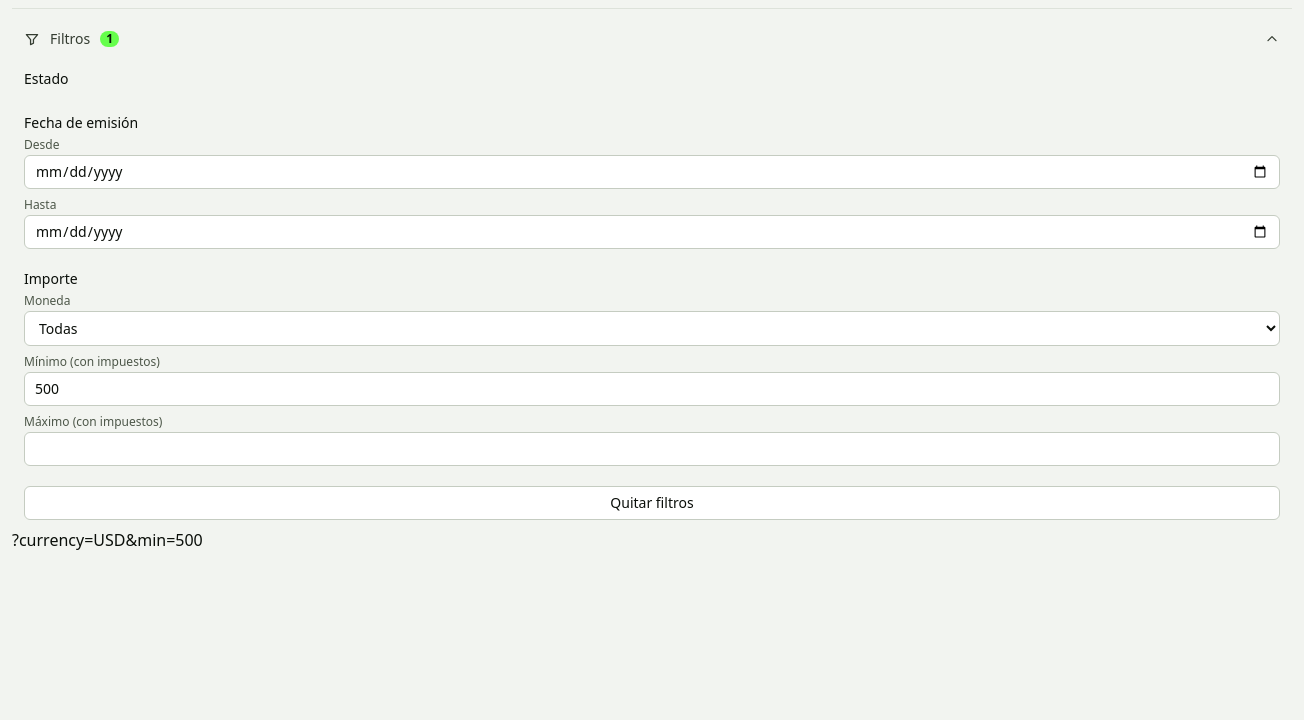
Scenario: InvoiceFilterPanel › rechaza un máximo menor que el mínimo
The width and height of the screenshot is (1304, 720).
Type "100" into the number field labelled "Máximo (con impuestos)" at (652, 449), box top-left (24, 432), bottom-right (1280, 466)
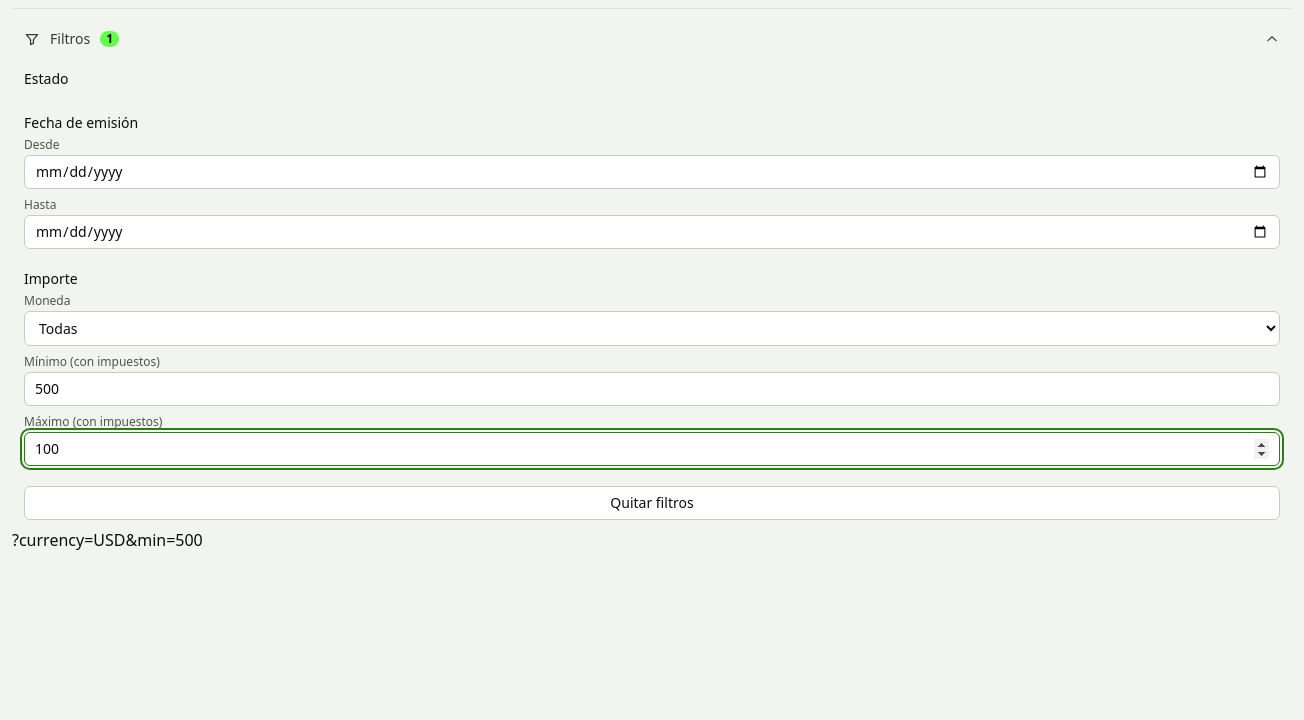
Press Tab
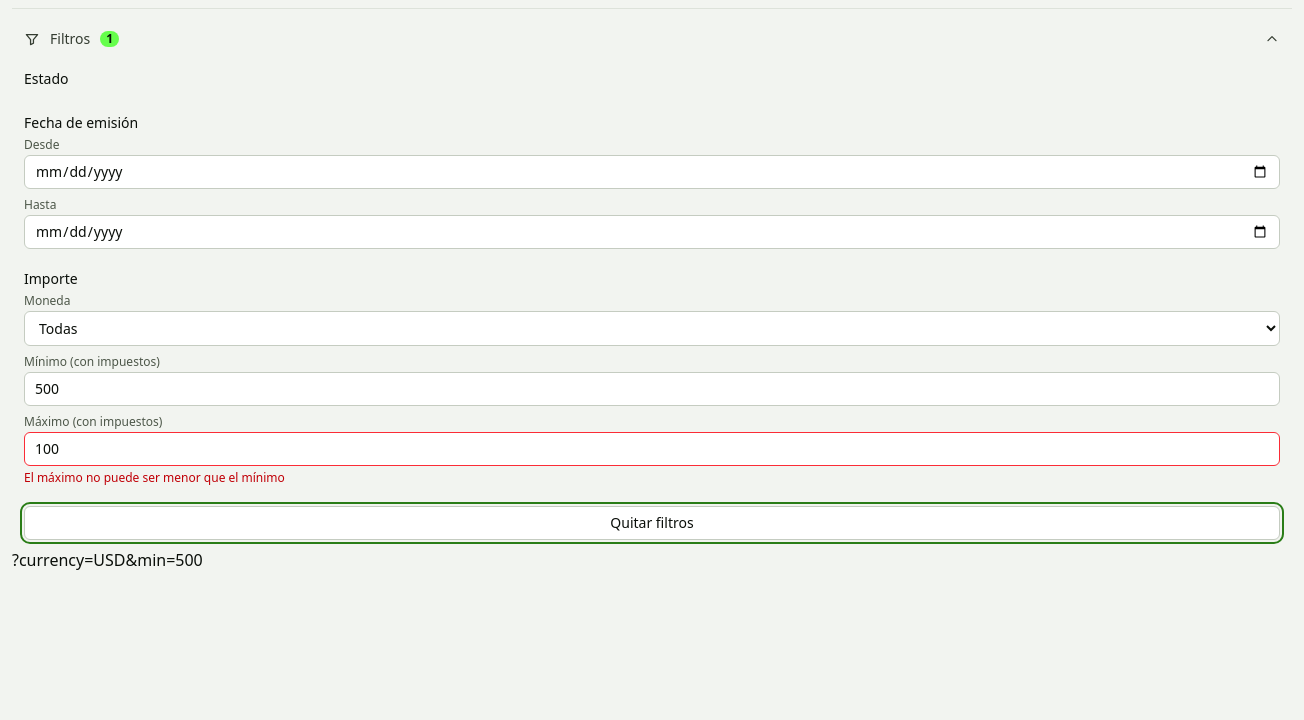
Now the text "El máximo no puede ser menor que el mínimo" is shown, box top-left (24, 469), bottom-right (285, 486)
